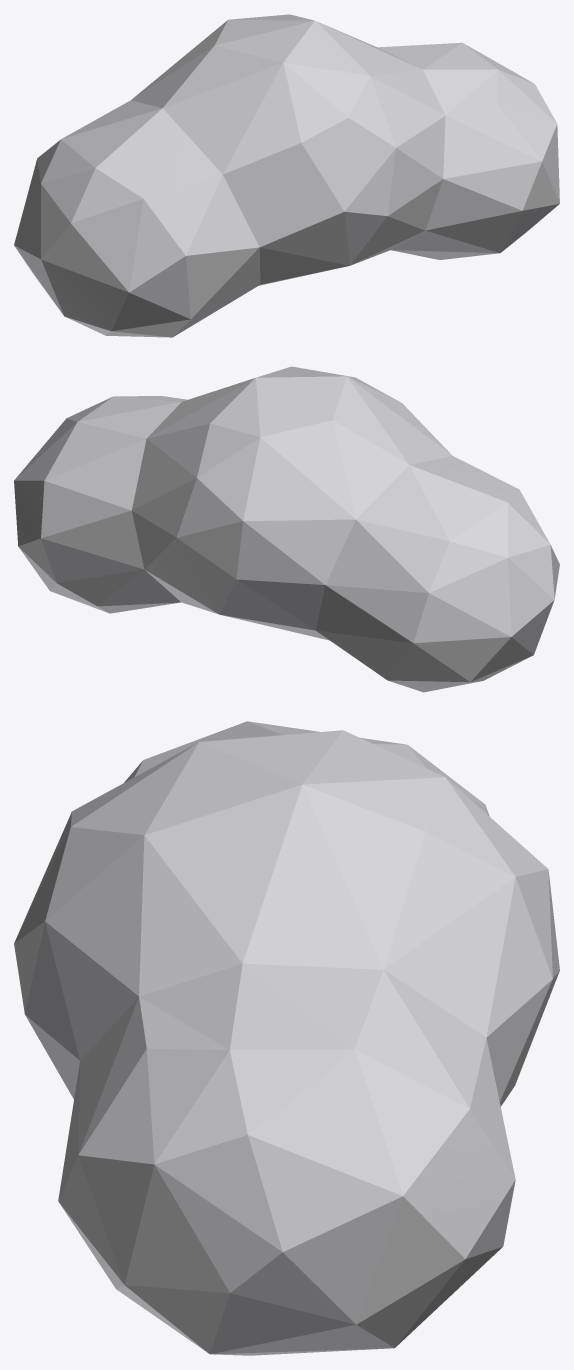
Rendered from small_cloud_12.fbx.
The picture shows the model from 3 angles, top to bottom: view 1: azimuth 30°, elevation 25°; view 2: azimuth 150°, elevation 25°; view 3: azimuth 270°, elevation 25°; orthographic projection. The views are drawn at different scales.
Visible parts, largest first — view 1: cloud_12; view 2: cloud_12; view 3: cloud_12.
Boxes of the visible parts, left/top/right/bottom form: cloud_12: left=14, top=14, right=559, bottom=337; cloud_12: left=14, top=366, right=559, bottom=692; cloud_12: left=14, top=721, right=559, bottom=1355.
Size of the model in its own units: 348 by 165 by 184.
